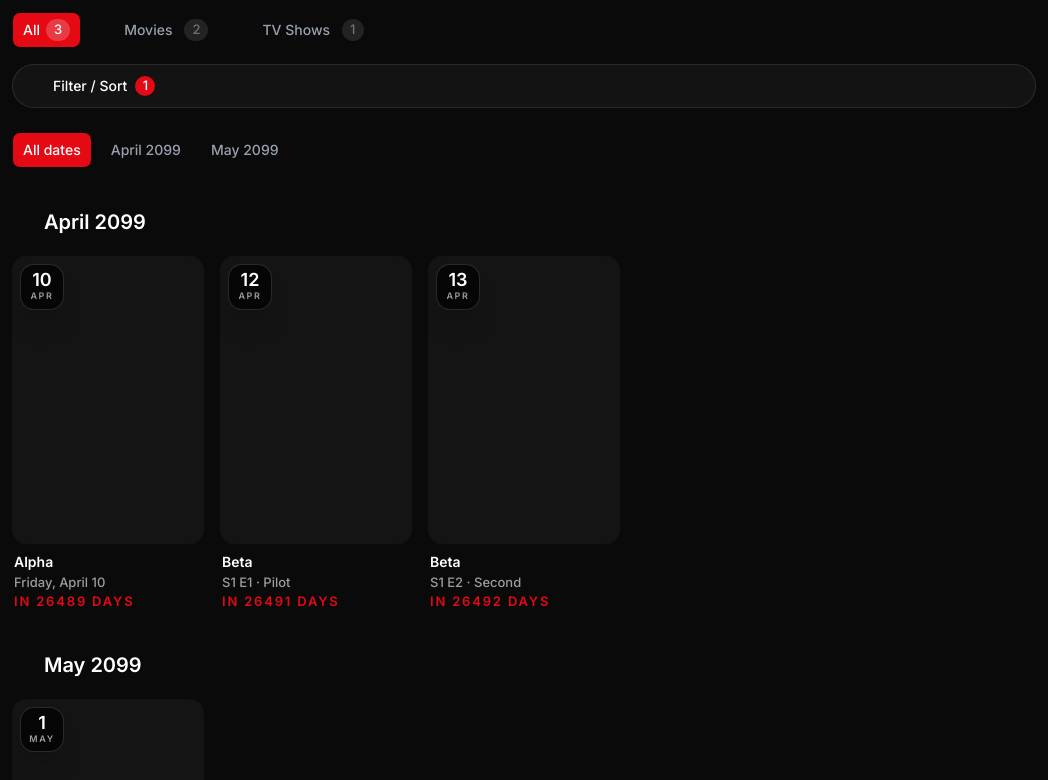
ReleaseCalendarView › renders a poster card grid with flattened per-episode cards and shared media tabs
expect the number of headings "Beta" is 2: met, box [222,553,253,570]; [430,553,461,570]
expect the heading "Alpha" is shown: met, box [14,553,53,570]
Click the button with test id "release-calendar-media-tab-tv".
click(301, 30)  # box [228,12,374,48]
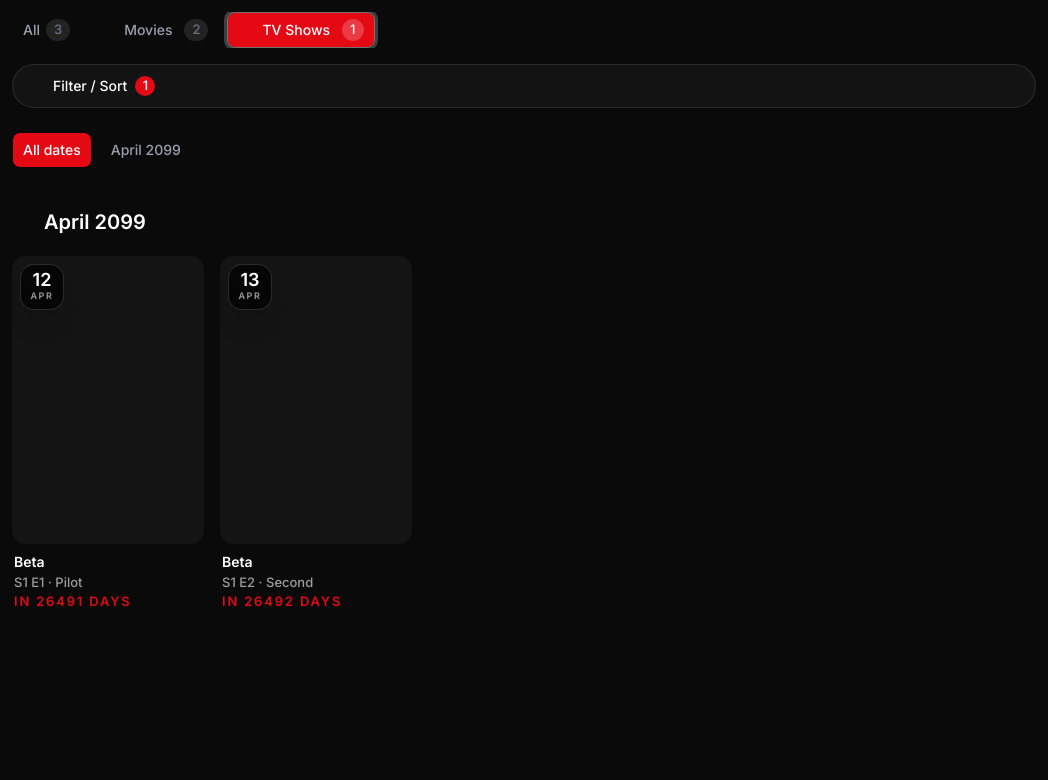
expect the link "Alpha" is gone: met
expect the number of headings "Beta" is 2: met, box [14,553,45,570]; [222,553,253,570]
